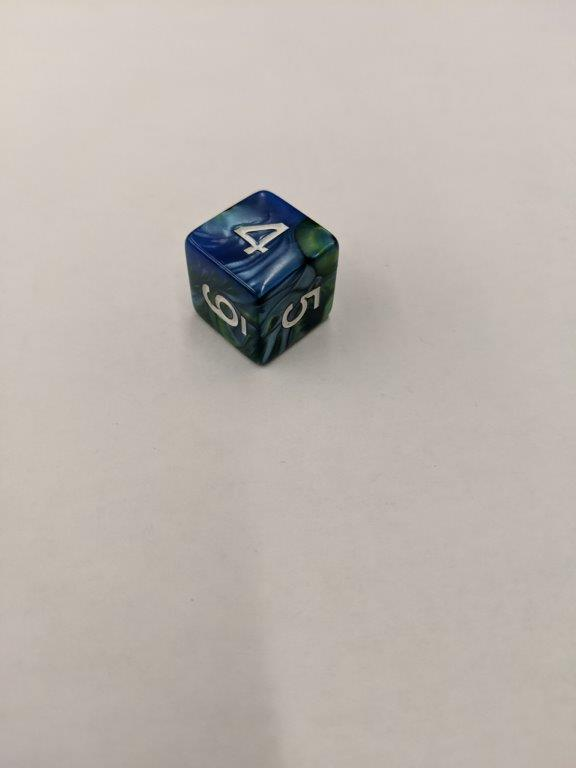d6-4: (183, 186, 338, 368)
